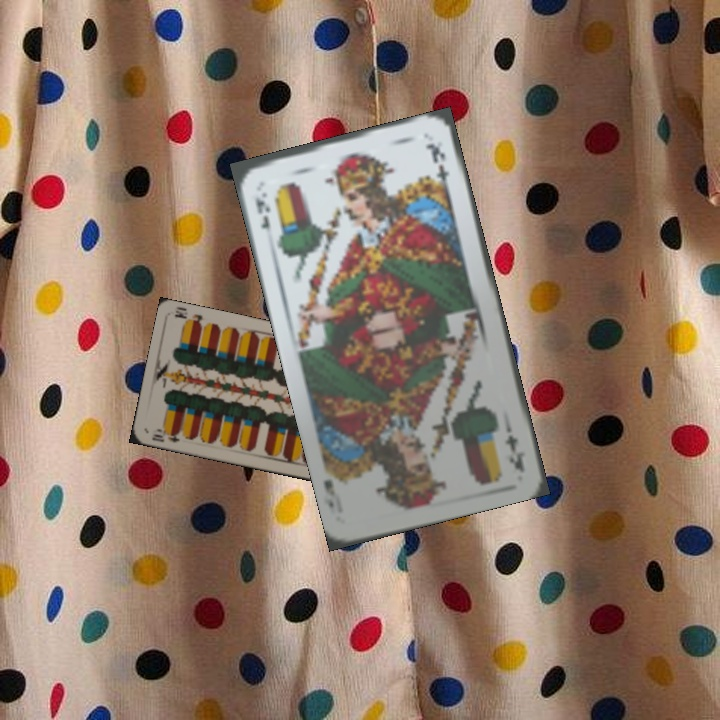E10: (148, 424, 182, 445)
EK: (500, 417, 528, 474), (251, 188, 273, 232)
